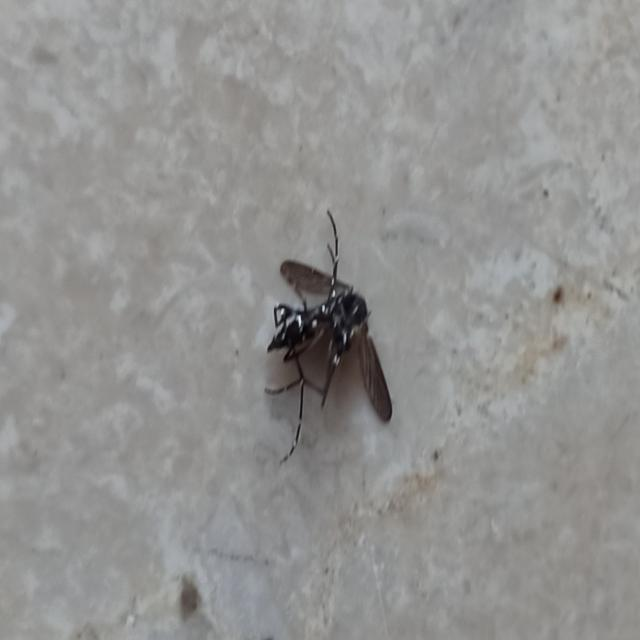albopictus: (254, 194, 397, 470)
